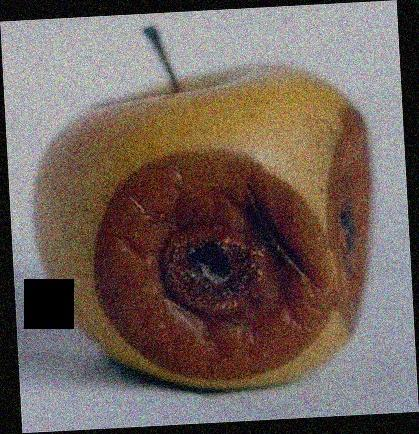rotten apple: (27, 71, 391, 398)
